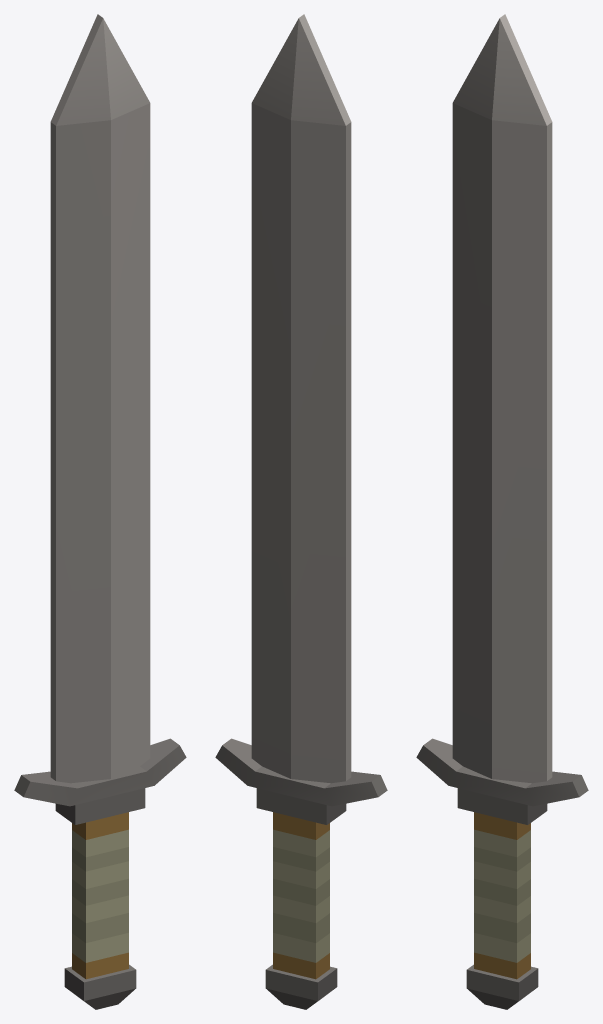
Rendered from SF_Wep_Human_Greatsword_01.fbx.
3 views of the same model, side by side, from view 1: azimuth 30°, elevation 25°; view 2: azimuth 150°, elevation 25°; view 3: azimuth 330°, elevation 25° (orthographic).
Parts seen in each view (by area): view 1: SF_Wep_Human_Greatsword_01; view 2: SF_Wep_Human_Greatsword_01; view 3: SF_Wep_Human_Greatsword_01.
Boxes of the visible parts, x1,y1,x2,y2 form: SF_Wep_Human_Greatsword_01: [14, 14, 186, 1009]; SF_Wep_Human_Greatsword_01: [215, 14, 387, 1009]; SF_Wep_Human_Greatsword_01: [416, 14, 588, 1009].
Bounding box in the file's own units: 0.548 × 3.17 × 0.1372.
